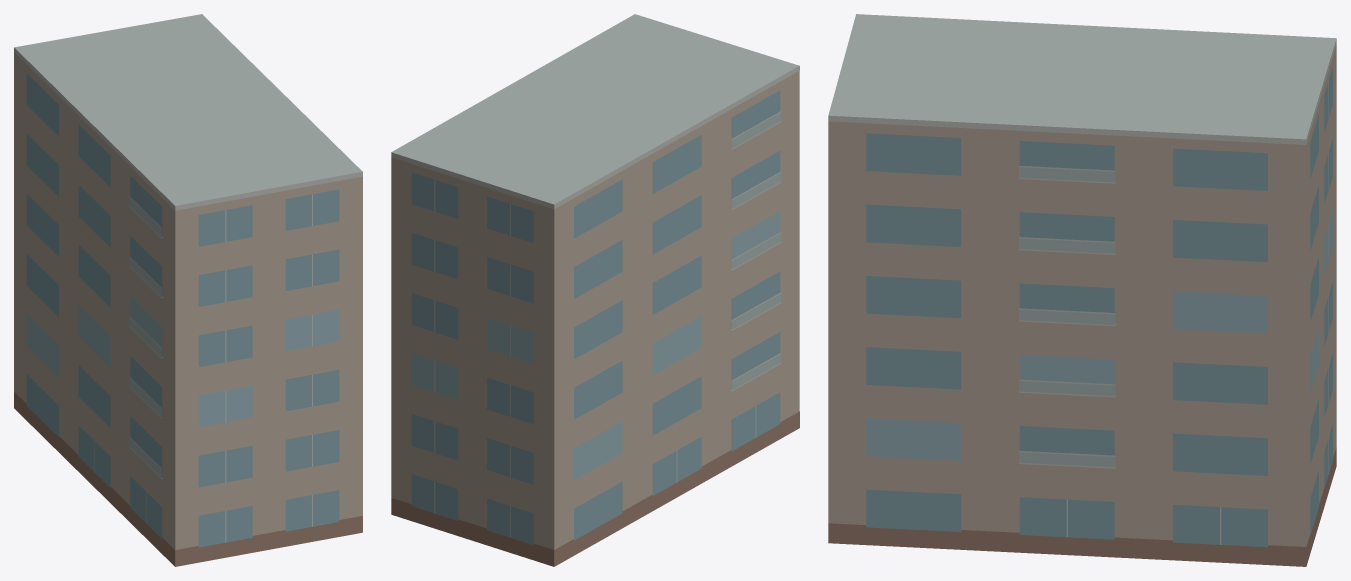
The model's file is survey-upis-32601225.glb.
The picture shows the model from 3 angles, left to right: view 1: azimuth 30°, elevation 25°; view 2: azimuth 150°, elevation 25°; view 3: azimuth 270°, elevation 25°; orthographic projection. The views are drawn at different scales.
Visible parts, largest first — view 1: survey-upis-32601225.tmp; view 2: survey-upis-32601225.tmp; view 3: survey-upis-32601225.tmp.
Part boxes in pixels (x1,y1,x2,y2): survey-upis-32601225.tmp: (14, 14, 362, 566); survey-upis-32601225.tmp: (391, 14, 799, 566); survey-upis-32601225.tmp: (828, 14, 1336, 566).
Size of the model in its own units: 11.52 by 18.3 by 19.73.
